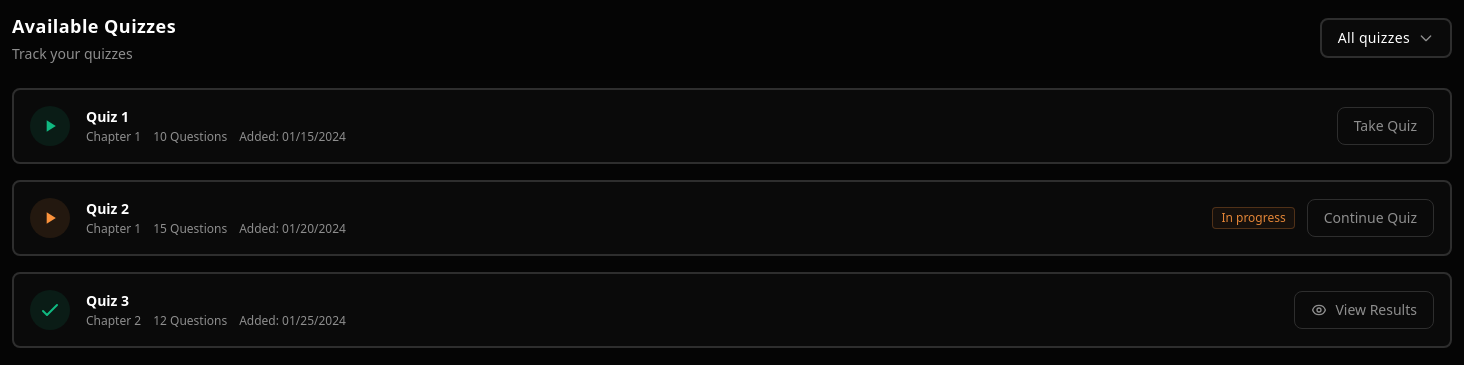
Test: StudentQuizList › View Mode Toggle › should close dropdown when clicking outside
This screenshot has width=1464, height=365.
Expected: the heading "Quiz 1" is shown, [86,107,129,126]
# Open dropdown
Click the button with aria-label "View mode" at (1386, 38), box [1320,18,1452,58]
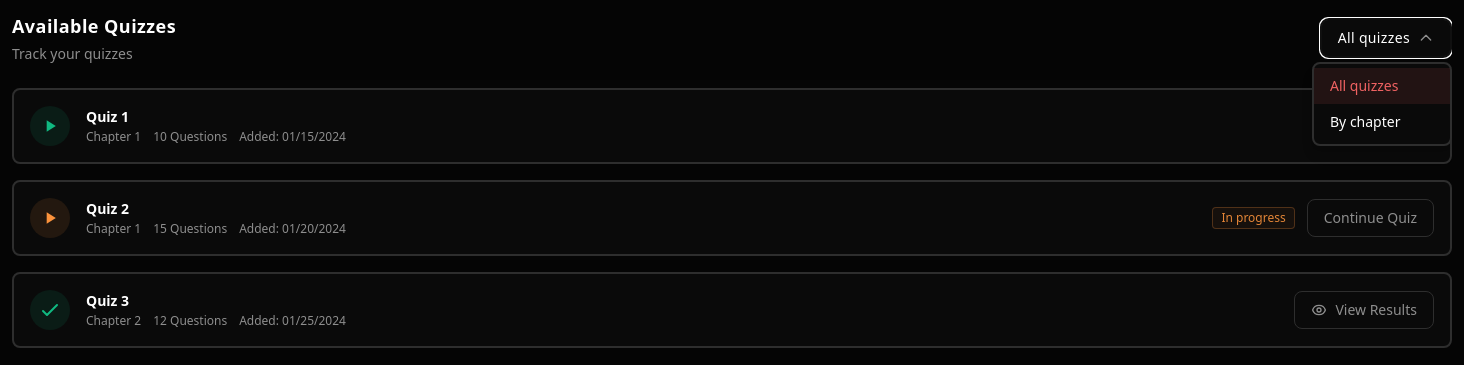
Result: the list is shown at [1312,62,1452,146]
# Click outside dropdown
Click the heading "Available Quizzes" at (94, 26), box [12,12,176,40]
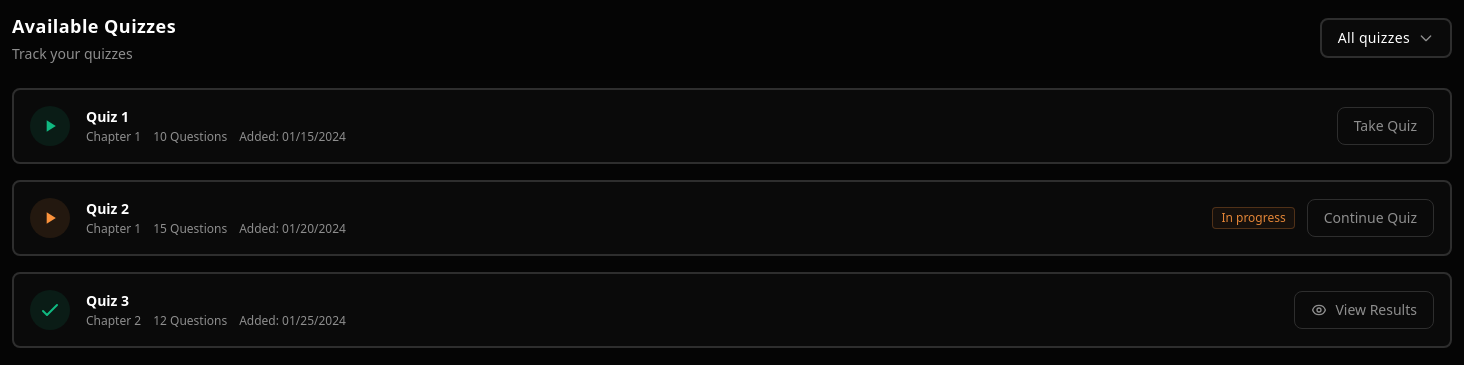
Result: the list is gone
